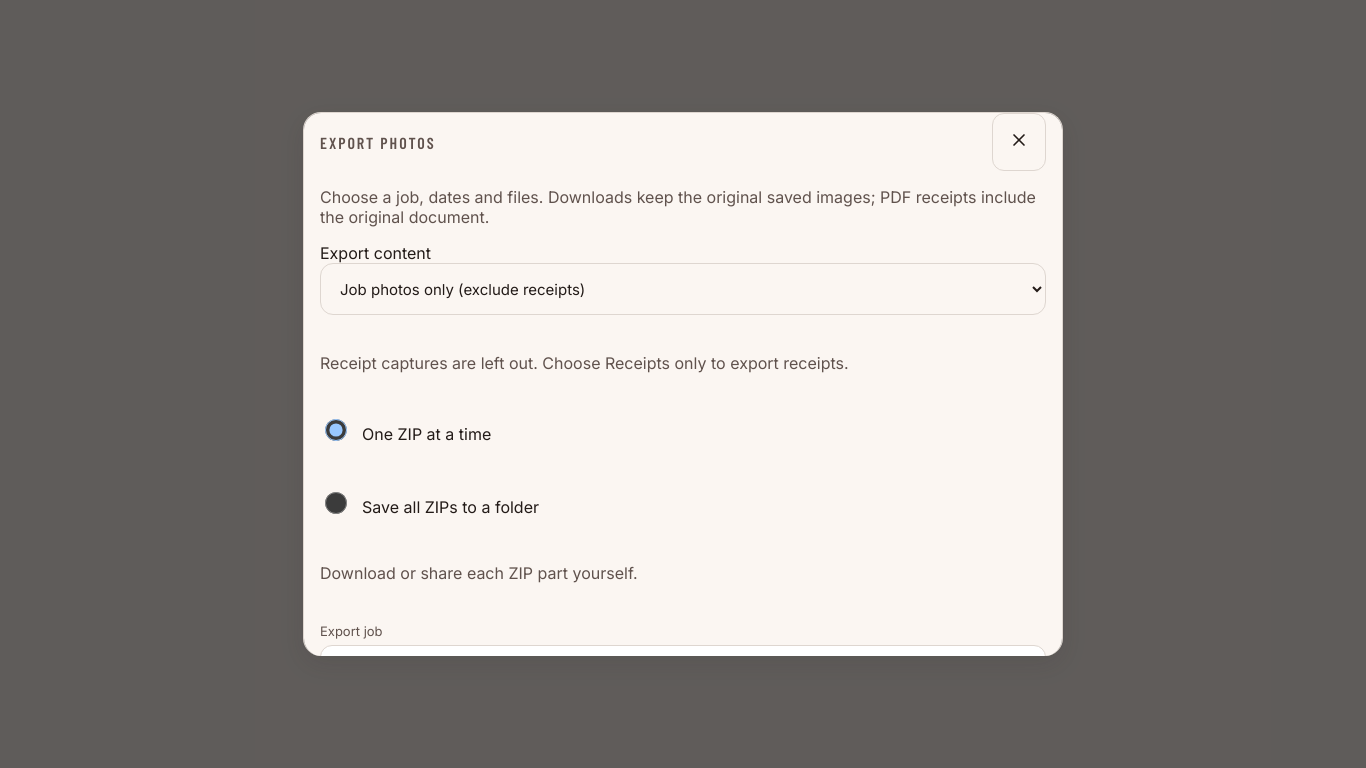
Scenario: Stop during close says the current ZIP may have saved and prepares nothing more
Click the radio button labelled "Save all ZIPs to a folder": [336, 503] box x1=325 y1=477 x2=347 y2=529
(page scrolled)
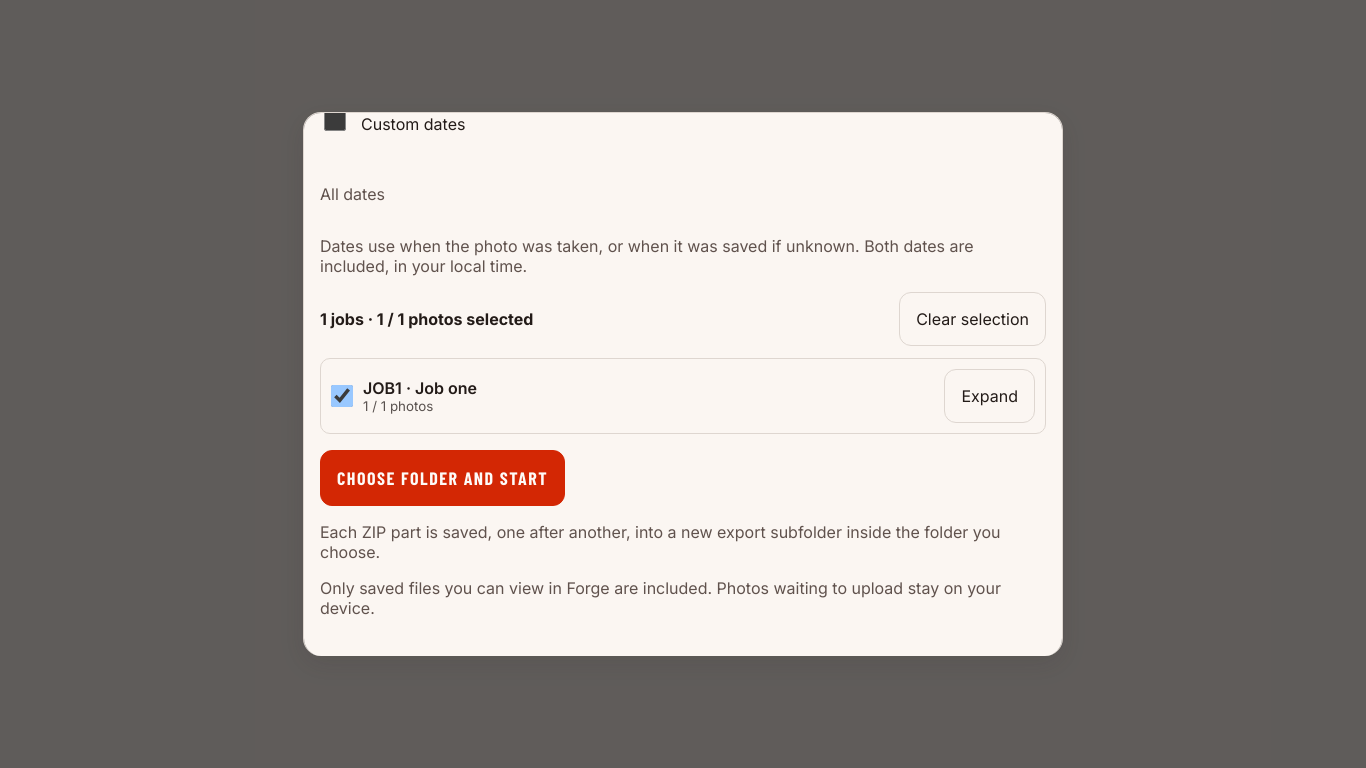
Click the button "Choose folder and start": [443, 478] box x1=320 y1=450 x2=565 y2=506
(page scrolled)
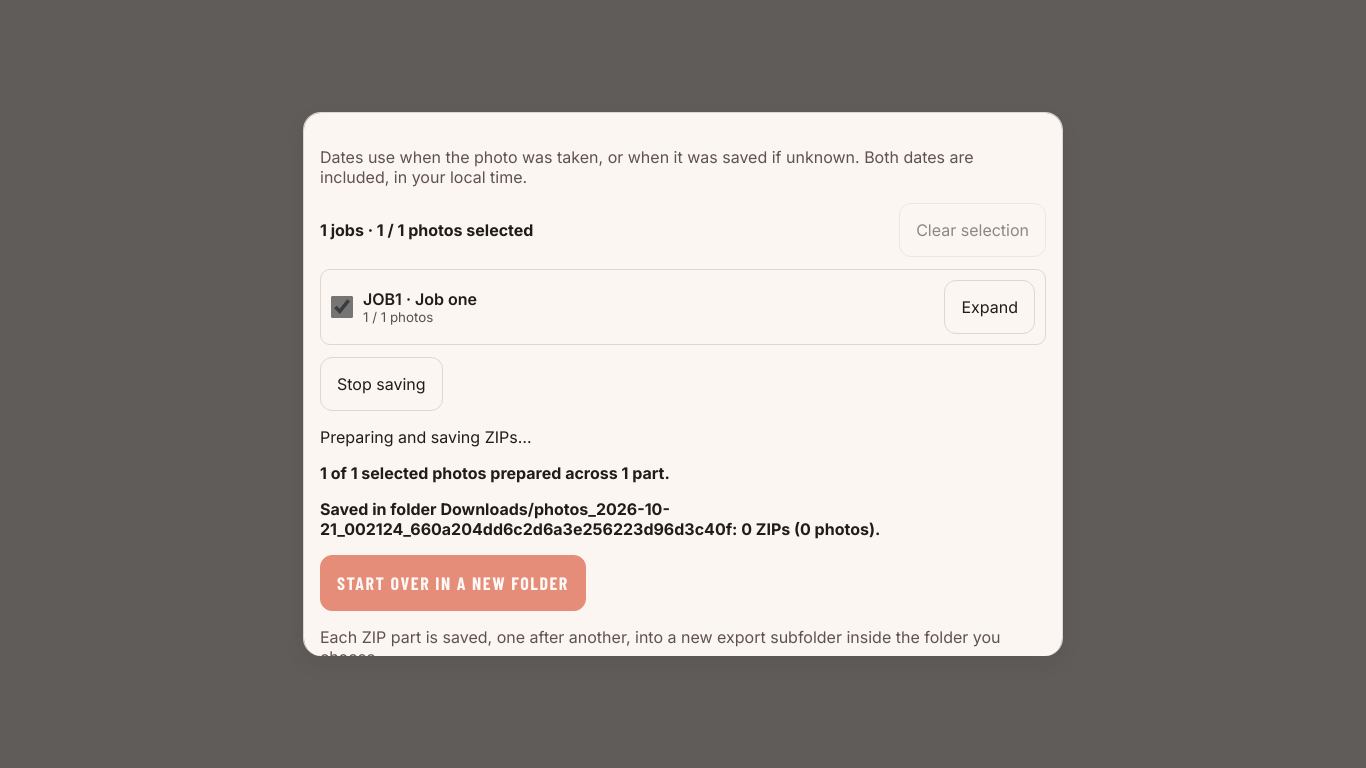
Click the button "Stop saving": [381, 384] box x1=320 y1=357 x2=443 y2=411
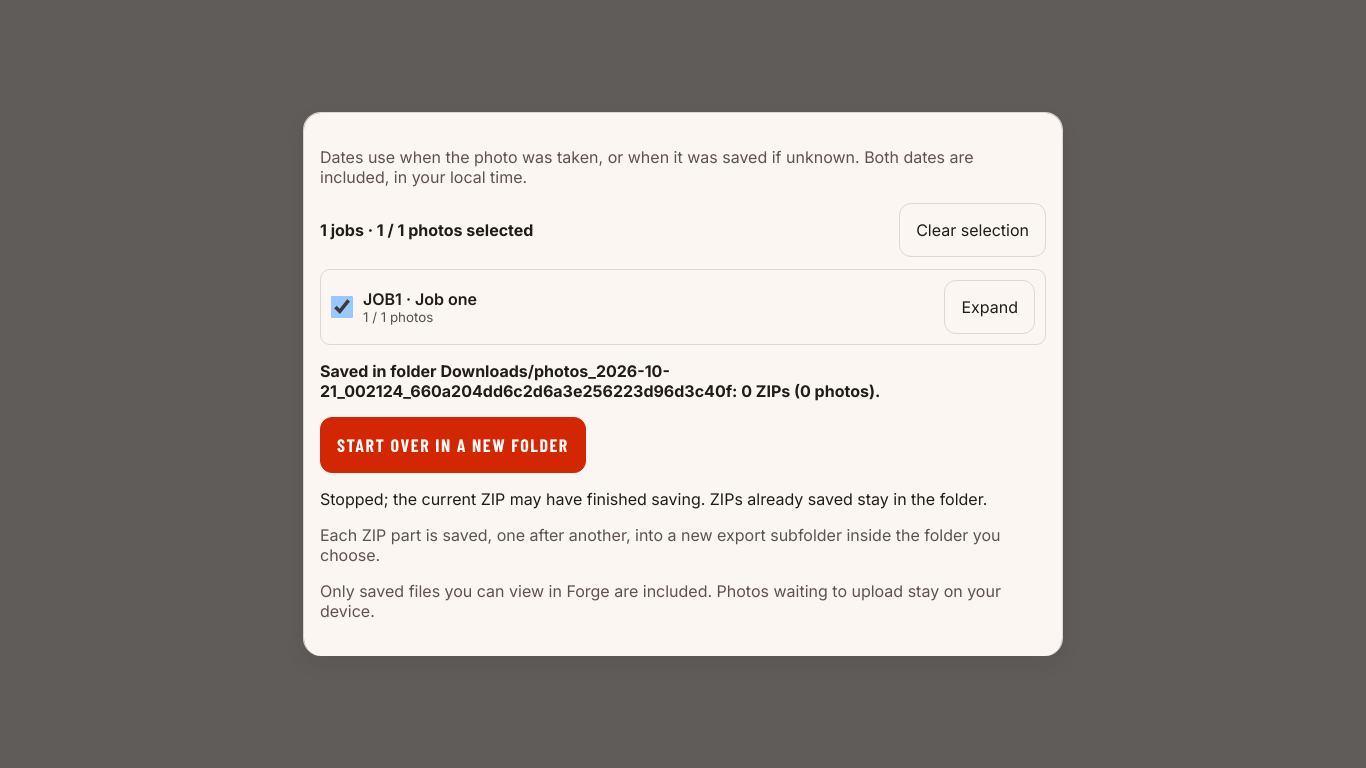
Check: the text "0 ZIPs (0 photos)" is shown, box x1=320 y1=361 x2=880 y2=401
Check: the text "Stopped; the current ZIP may have finished saving." is shown, box x1=320 y1=489 x2=987 y2=509
Check: the button "Start over in a new folder" is enabled, box x1=320 y1=417 x2=586 y2=473
